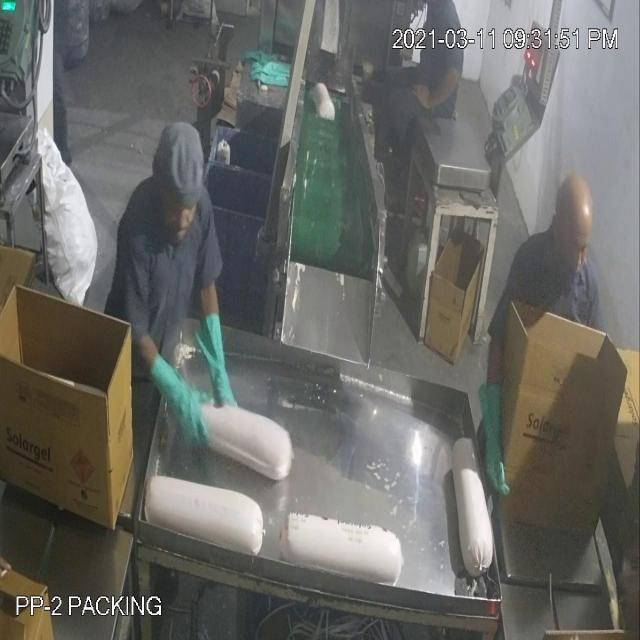Gloves: (43, 104, 494, 436)
